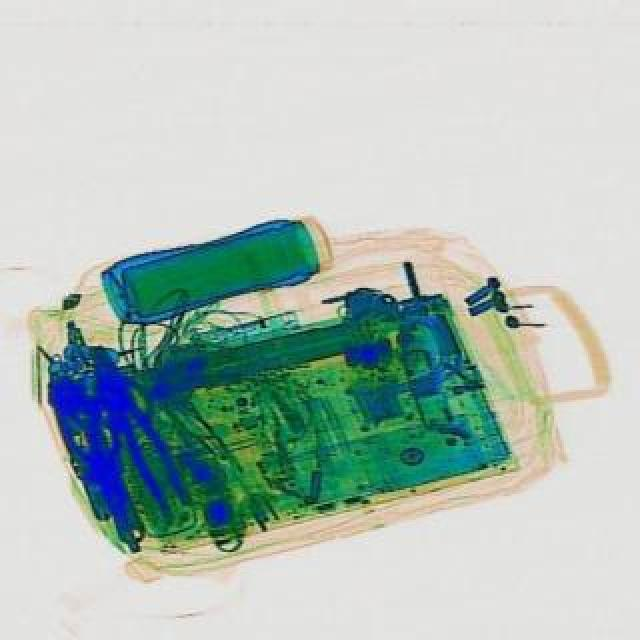wrench: (80, 340, 192, 516)
